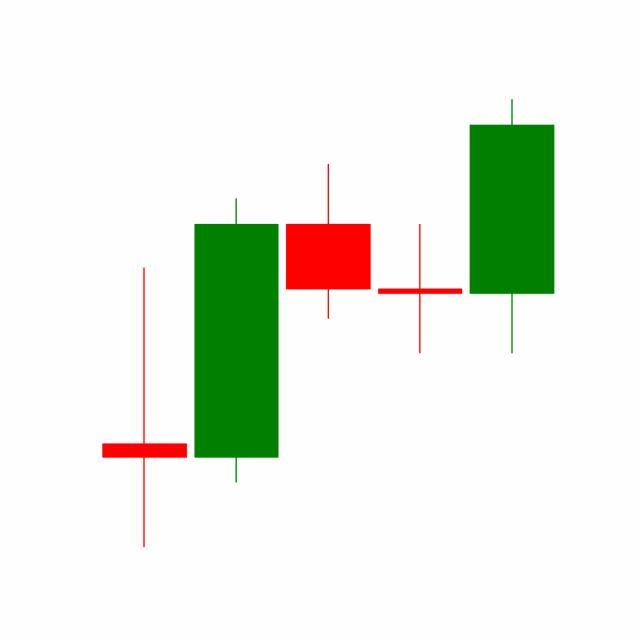Spinning Top: (374, 223, 468, 356)
